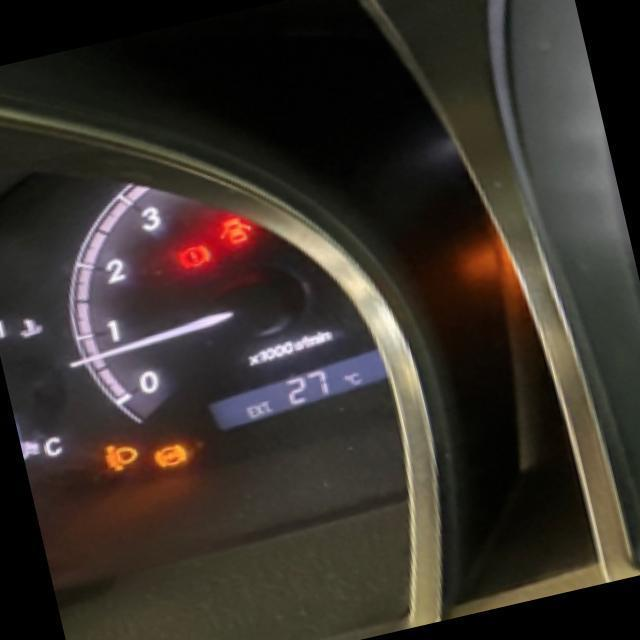Doors: (212, 210, 260, 252)
